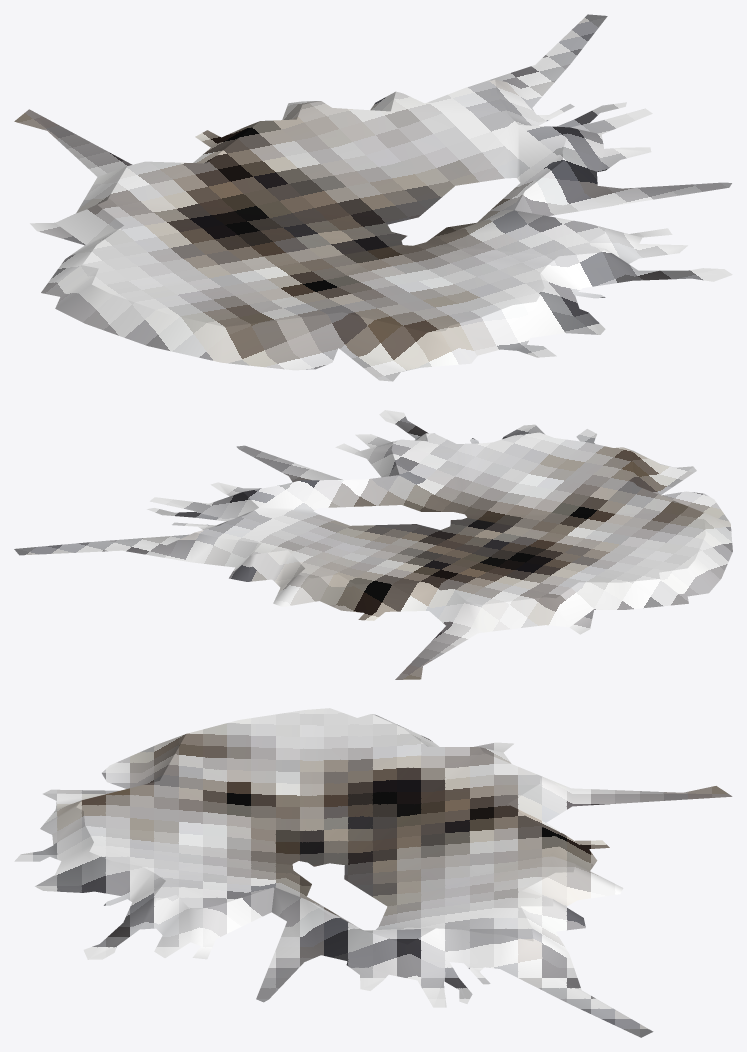
The model's file is ammomaker_BirdExcrement.fbx.
3 views of the same model, one above another, from view 1: azimuth 30°, elevation 25°; view 2: azimuth 150°, elevation 25°; view 3: azimuth 270°, elevation 25° (orthographic). The views are drawn at different scales.
Parts seen in each view (by area): view 1: ammomaker_BirdExcrement; view 2: ammomaker_BirdExcrement; view 3: ammomaker_BirdExcrement.
Boxes of the visible parts, x1,y1,x2,y2 form: ammomaker_BirdExcrement: [14, 14, 732, 381]; ammomaker_BirdExcrement: [14, 410, 732, 679]; ammomaker_BirdExcrement: [14, 708, 732, 1037].
Bounding box in the file's own units: 12.13 × 0.3623 × 11.33.
